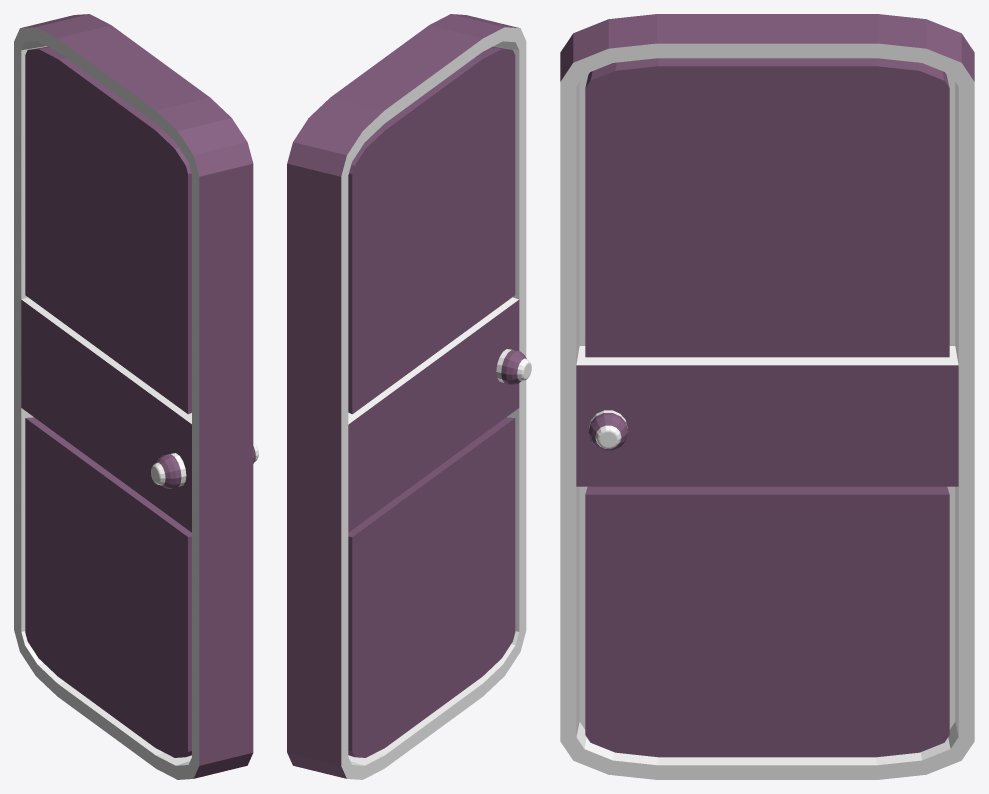
Rendered from Door.fbx.
The picture shows the model from 3 angles, left to right: view 1: azimuth 30°, elevation 25°; view 2: azimuth 150°, elevation 25°; view 3: azimuth 270°, elevation 25°; orthographic projection. The views are drawn at different scales.
Visible parts, largest first — view 1: Door; view 2: Door; view 3: Door.
Part boxes in pixels (bbox=[...]): Door: bbox=[14, 14, 258, 779]; Door: bbox=[287, 14, 531, 779]; Door: bbox=[560, 14, 974, 779].
Bounding box in the file's own units: 0.3619 × 2.28 × 1.16.
